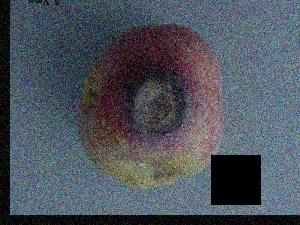rotten apple: (75, 23, 232, 191)
